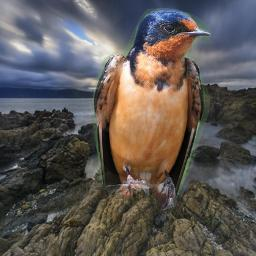Swallow: (93, 8, 211, 211)
